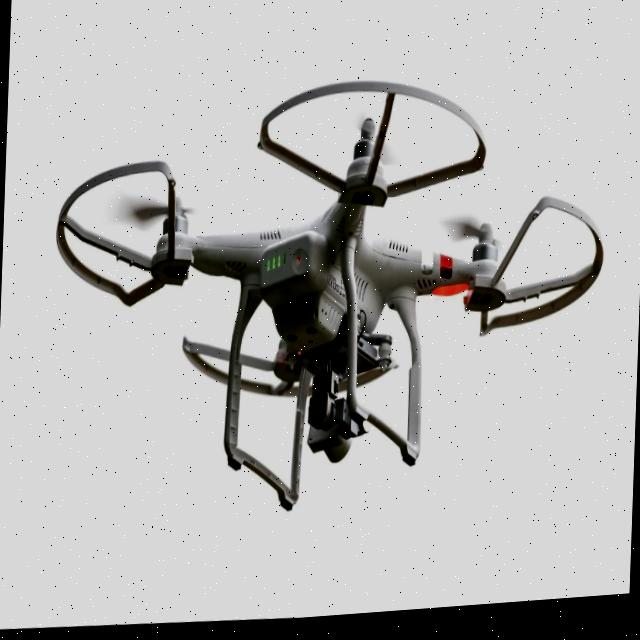drone: (23, 19, 640, 552)
